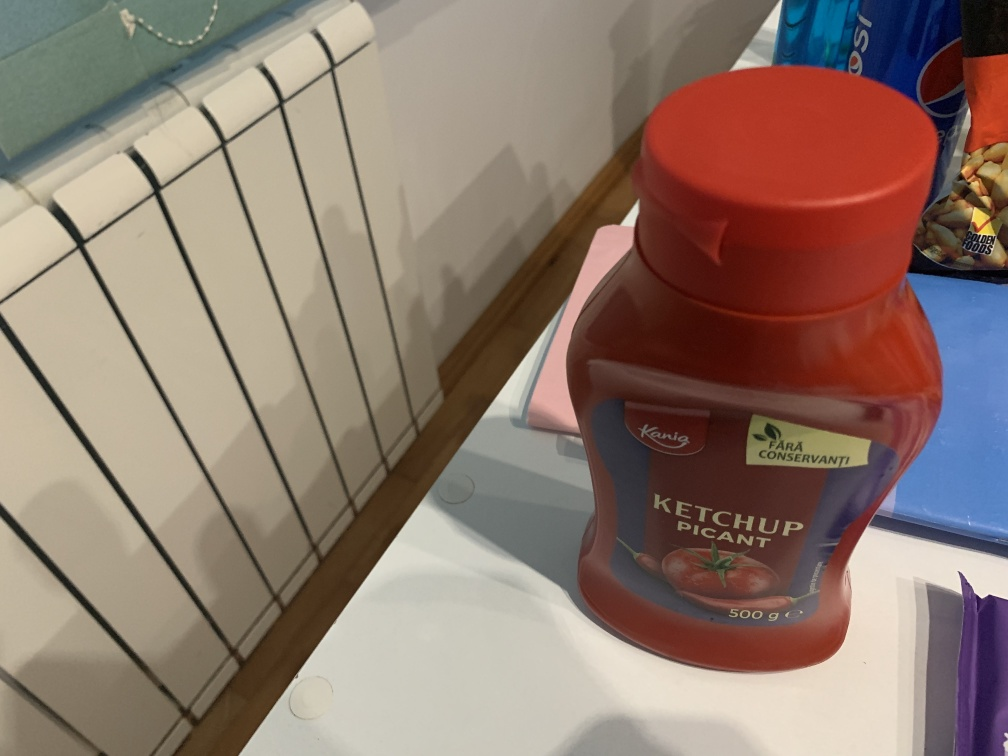ketchup: (574, 63, 944, 688)
pepsi: (845, 2, 974, 210)
